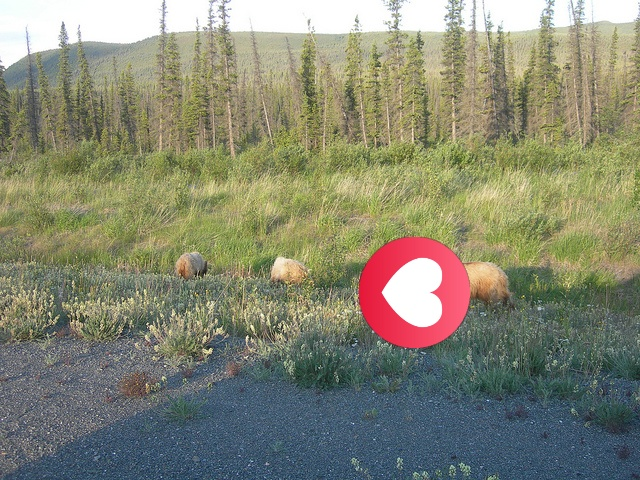love: (359, 237, 470, 348)
